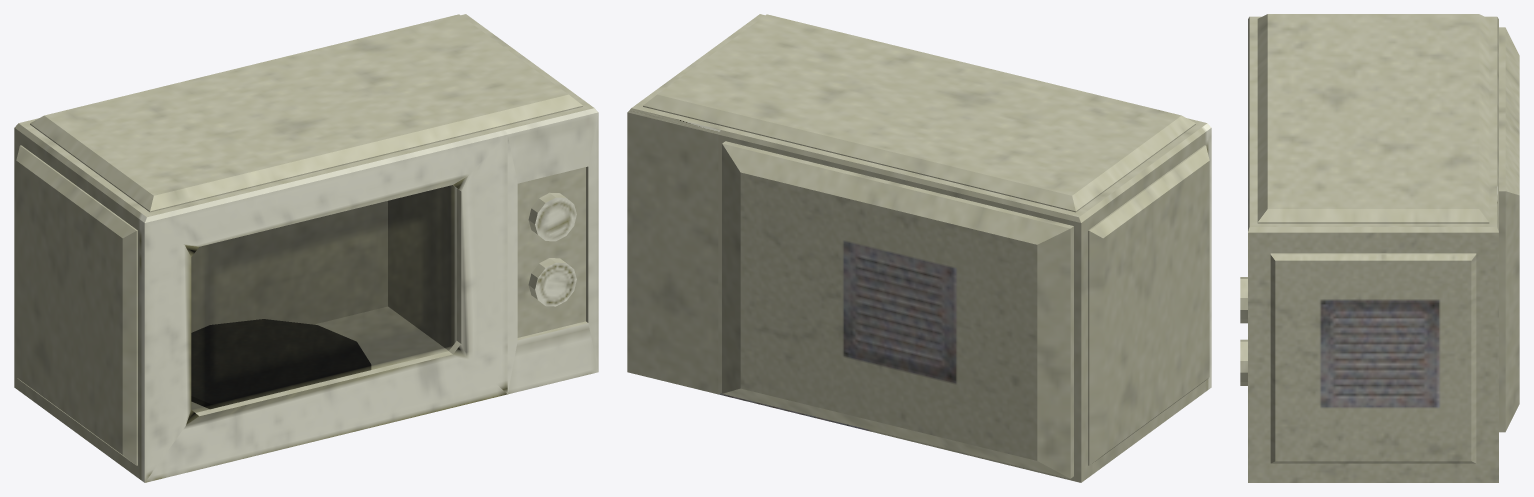
The model's file is microwave.glb.
The picture shows the model from 3 angles, left to right: view 1: azimuth 30°, elevation 25°; view 2: azimuth 150°, elevation 25°; view 3: azimuth 270°, elevation 25°; orthographic projection. The views are drawn at different scales.
Parts seen in each view (by area): view 1: microwave; view 2: microwave; view 3: microwave.
Part boxes in pixels (x1,y1,x2,y2): microwave: [14, 14, 598, 482]; microwave: [627, 14, 1211, 482]; microwave: [1240, 14, 1519, 482].
Bounding box in the file's own units: 0.6512 × 0.3634 × 0.3478.
3 materials, 3 textured.
